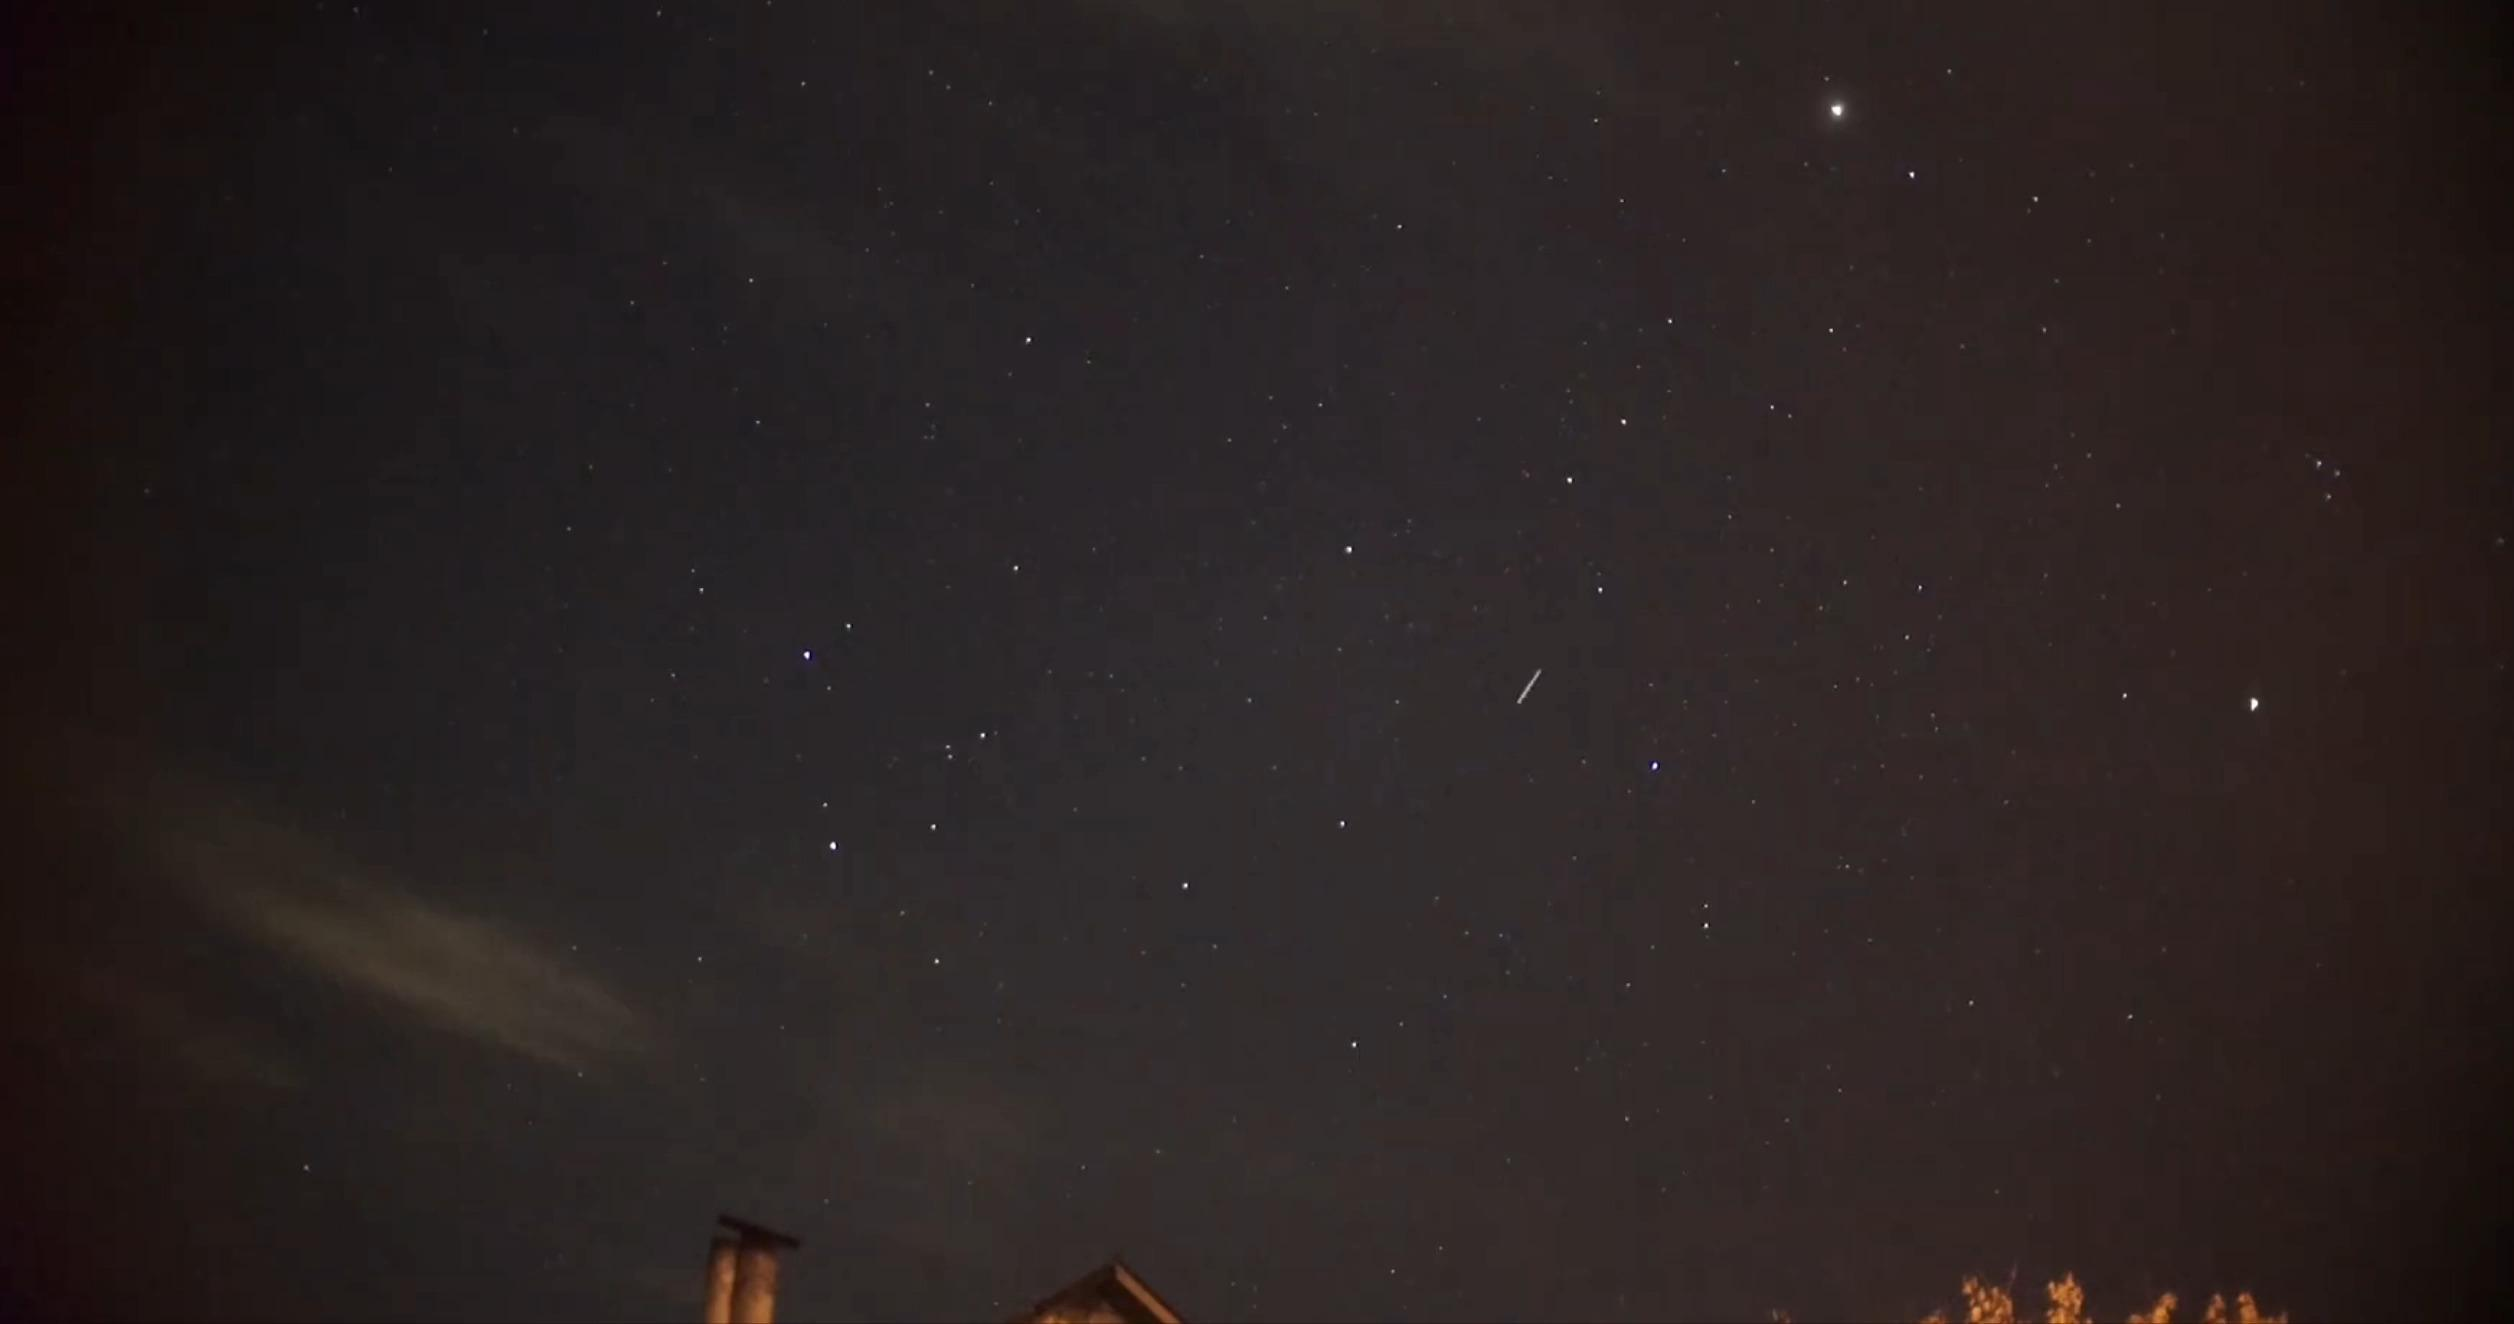meteorite: (1466, 655, 1585, 722)
